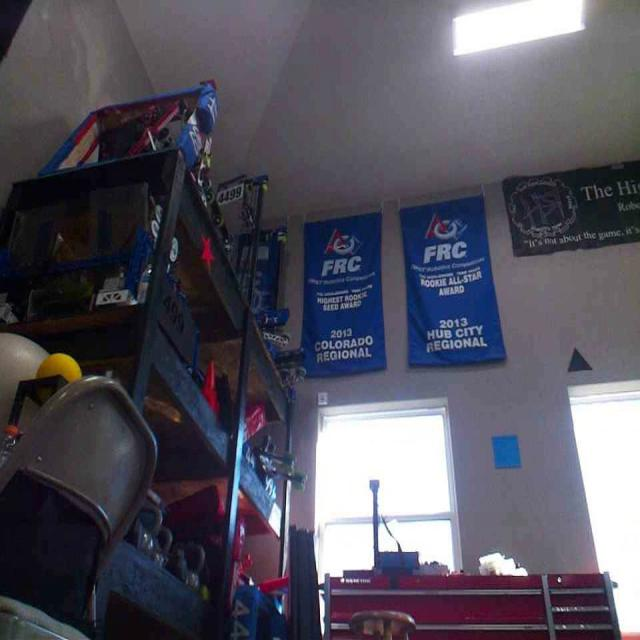square_blue: (489, 436, 522, 468)
star_red: (199, 232, 214, 271)
triangle_black: (566, 345, 592, 372)
